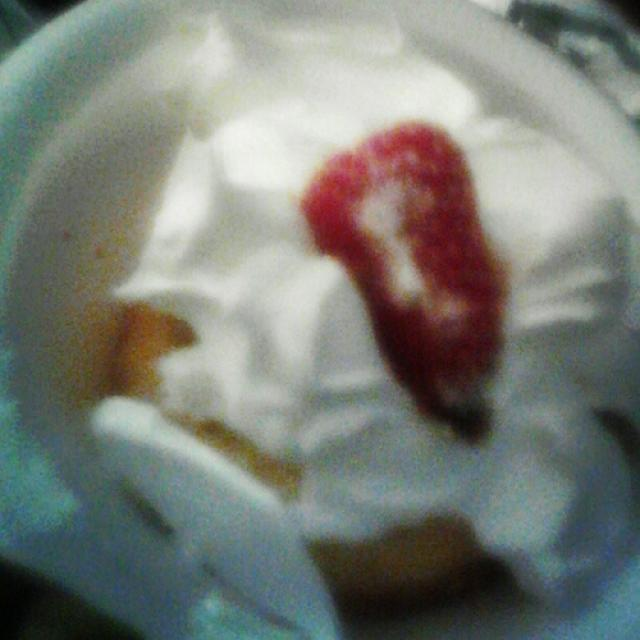蛋糕甜品: (26, 18, 631, 623)
